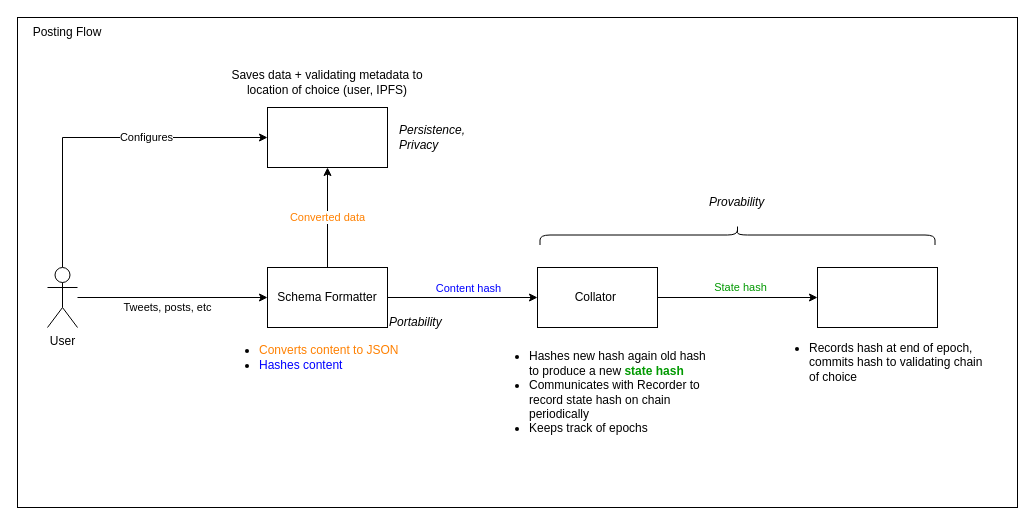
Some shapes in this 1035 by 525 pixel diagram are drawn without their labels. The centre of each missing label's shape, as x and y in pixels:
Data Vault: (327,137)
Recorder <<Smart Contract>>: (877,297)
